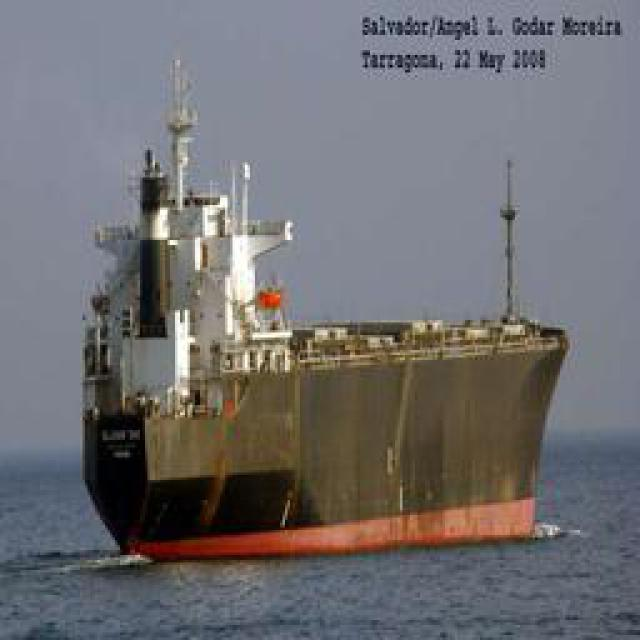Ship: (62, 75, 575, 570)
